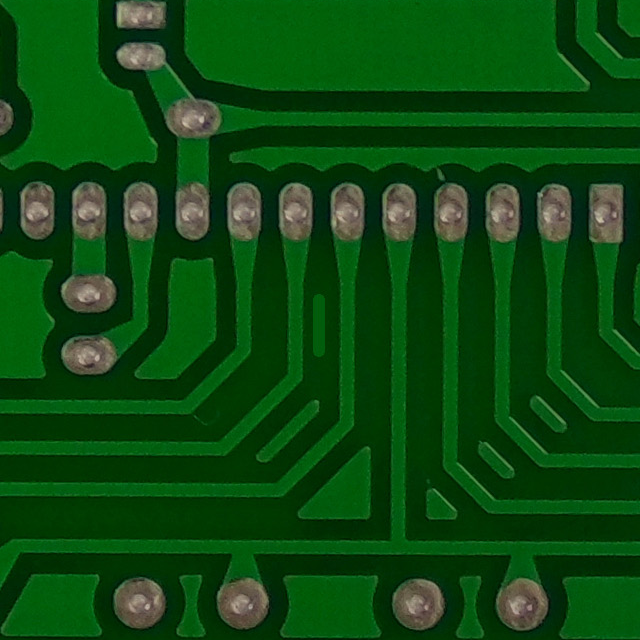spurious_copper: (292, 273, 348, 368)
